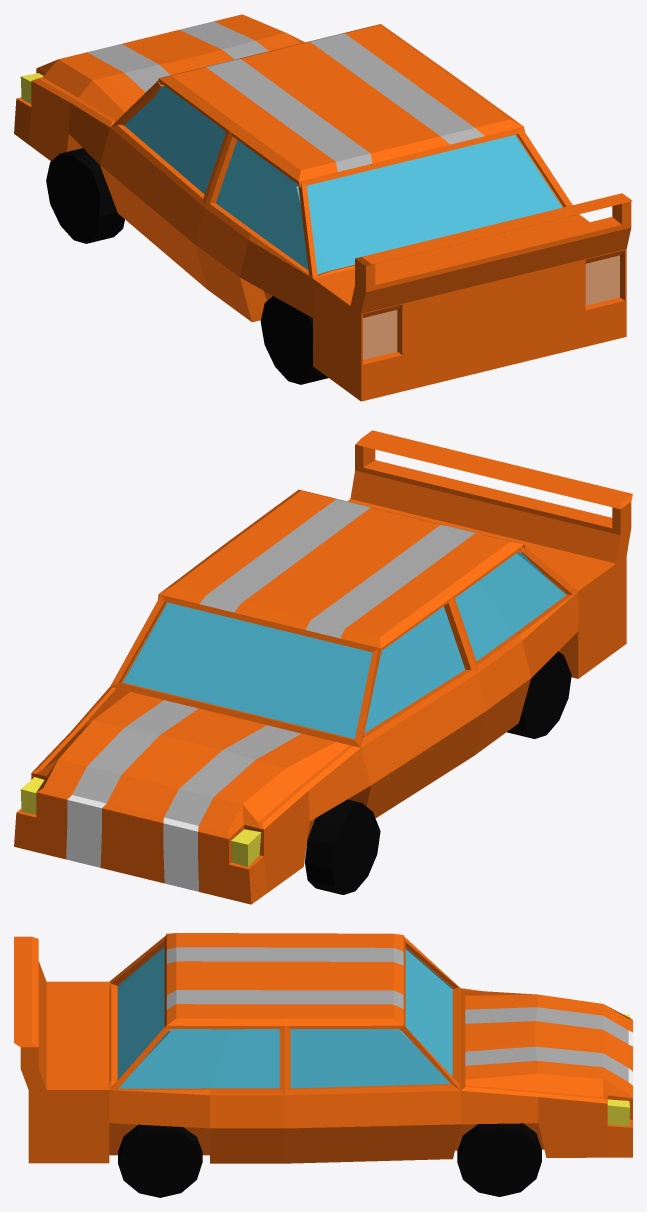
Rendered from Car_Fixed.fbx.
The picture shows the model from 3 angles, top to bottom: view 1: azimuth 30°, elevation 25°; view 2: azimuth 150°, elevation 25°; view 3: azimuth 270°, elevation 25°; orthographic projection. The views are drawn at different scales.
Parts seen in each view (by area): view 1: Car, Front_Left_Wheel, Rare_Left_Wheel; view 2: Car, Front_Left_Wheel, Rare_Left_Wheel; view 3: Car, Front_Right_Wheel, Rare_Right_Wheel.
Boxes of the visible parts, left/top/right/bottom form: Car: left=14, top=14, right=632, bottom=401; Front_Left_Wheel: left=46, top=148, right=124, bottom=243; Rare_Left_Wheel: left=260, top=296, right=328, bottom=384; Car: left=14, top=430, right=632, bottom=904; Front_Left_Wheel: left=304, top=799, right=380, bottom=894; Rare_Left_Wheel: left=507, top=651, right=571, bottom=738; Car: left=14, top=933, right=632, bottom=1163; Front_Right_Wheel: left=457, top=1123, right=541, bottom=1196; Rare_Right_Wheel: left=118, top=1124, right=202, bottom=1197.
Size of the model in its own units: 180 by 116 by 388.
